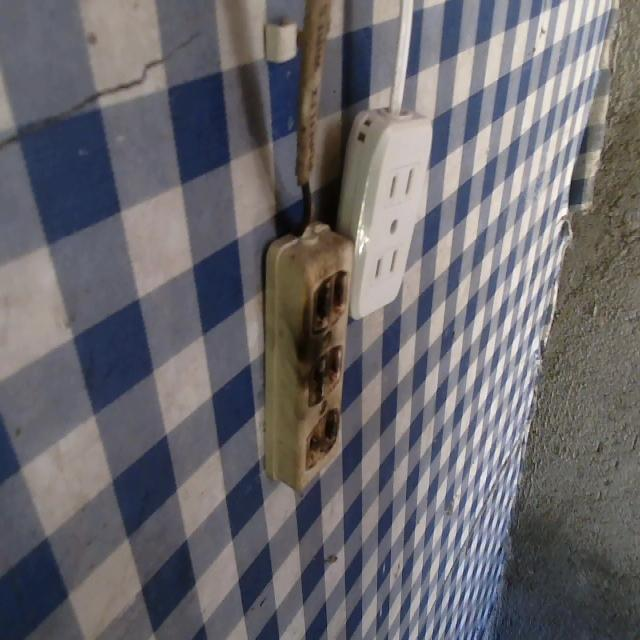-: (305, 264, 352, 341), (299, 410, 349, 474), (307, 346, 350, 406)
